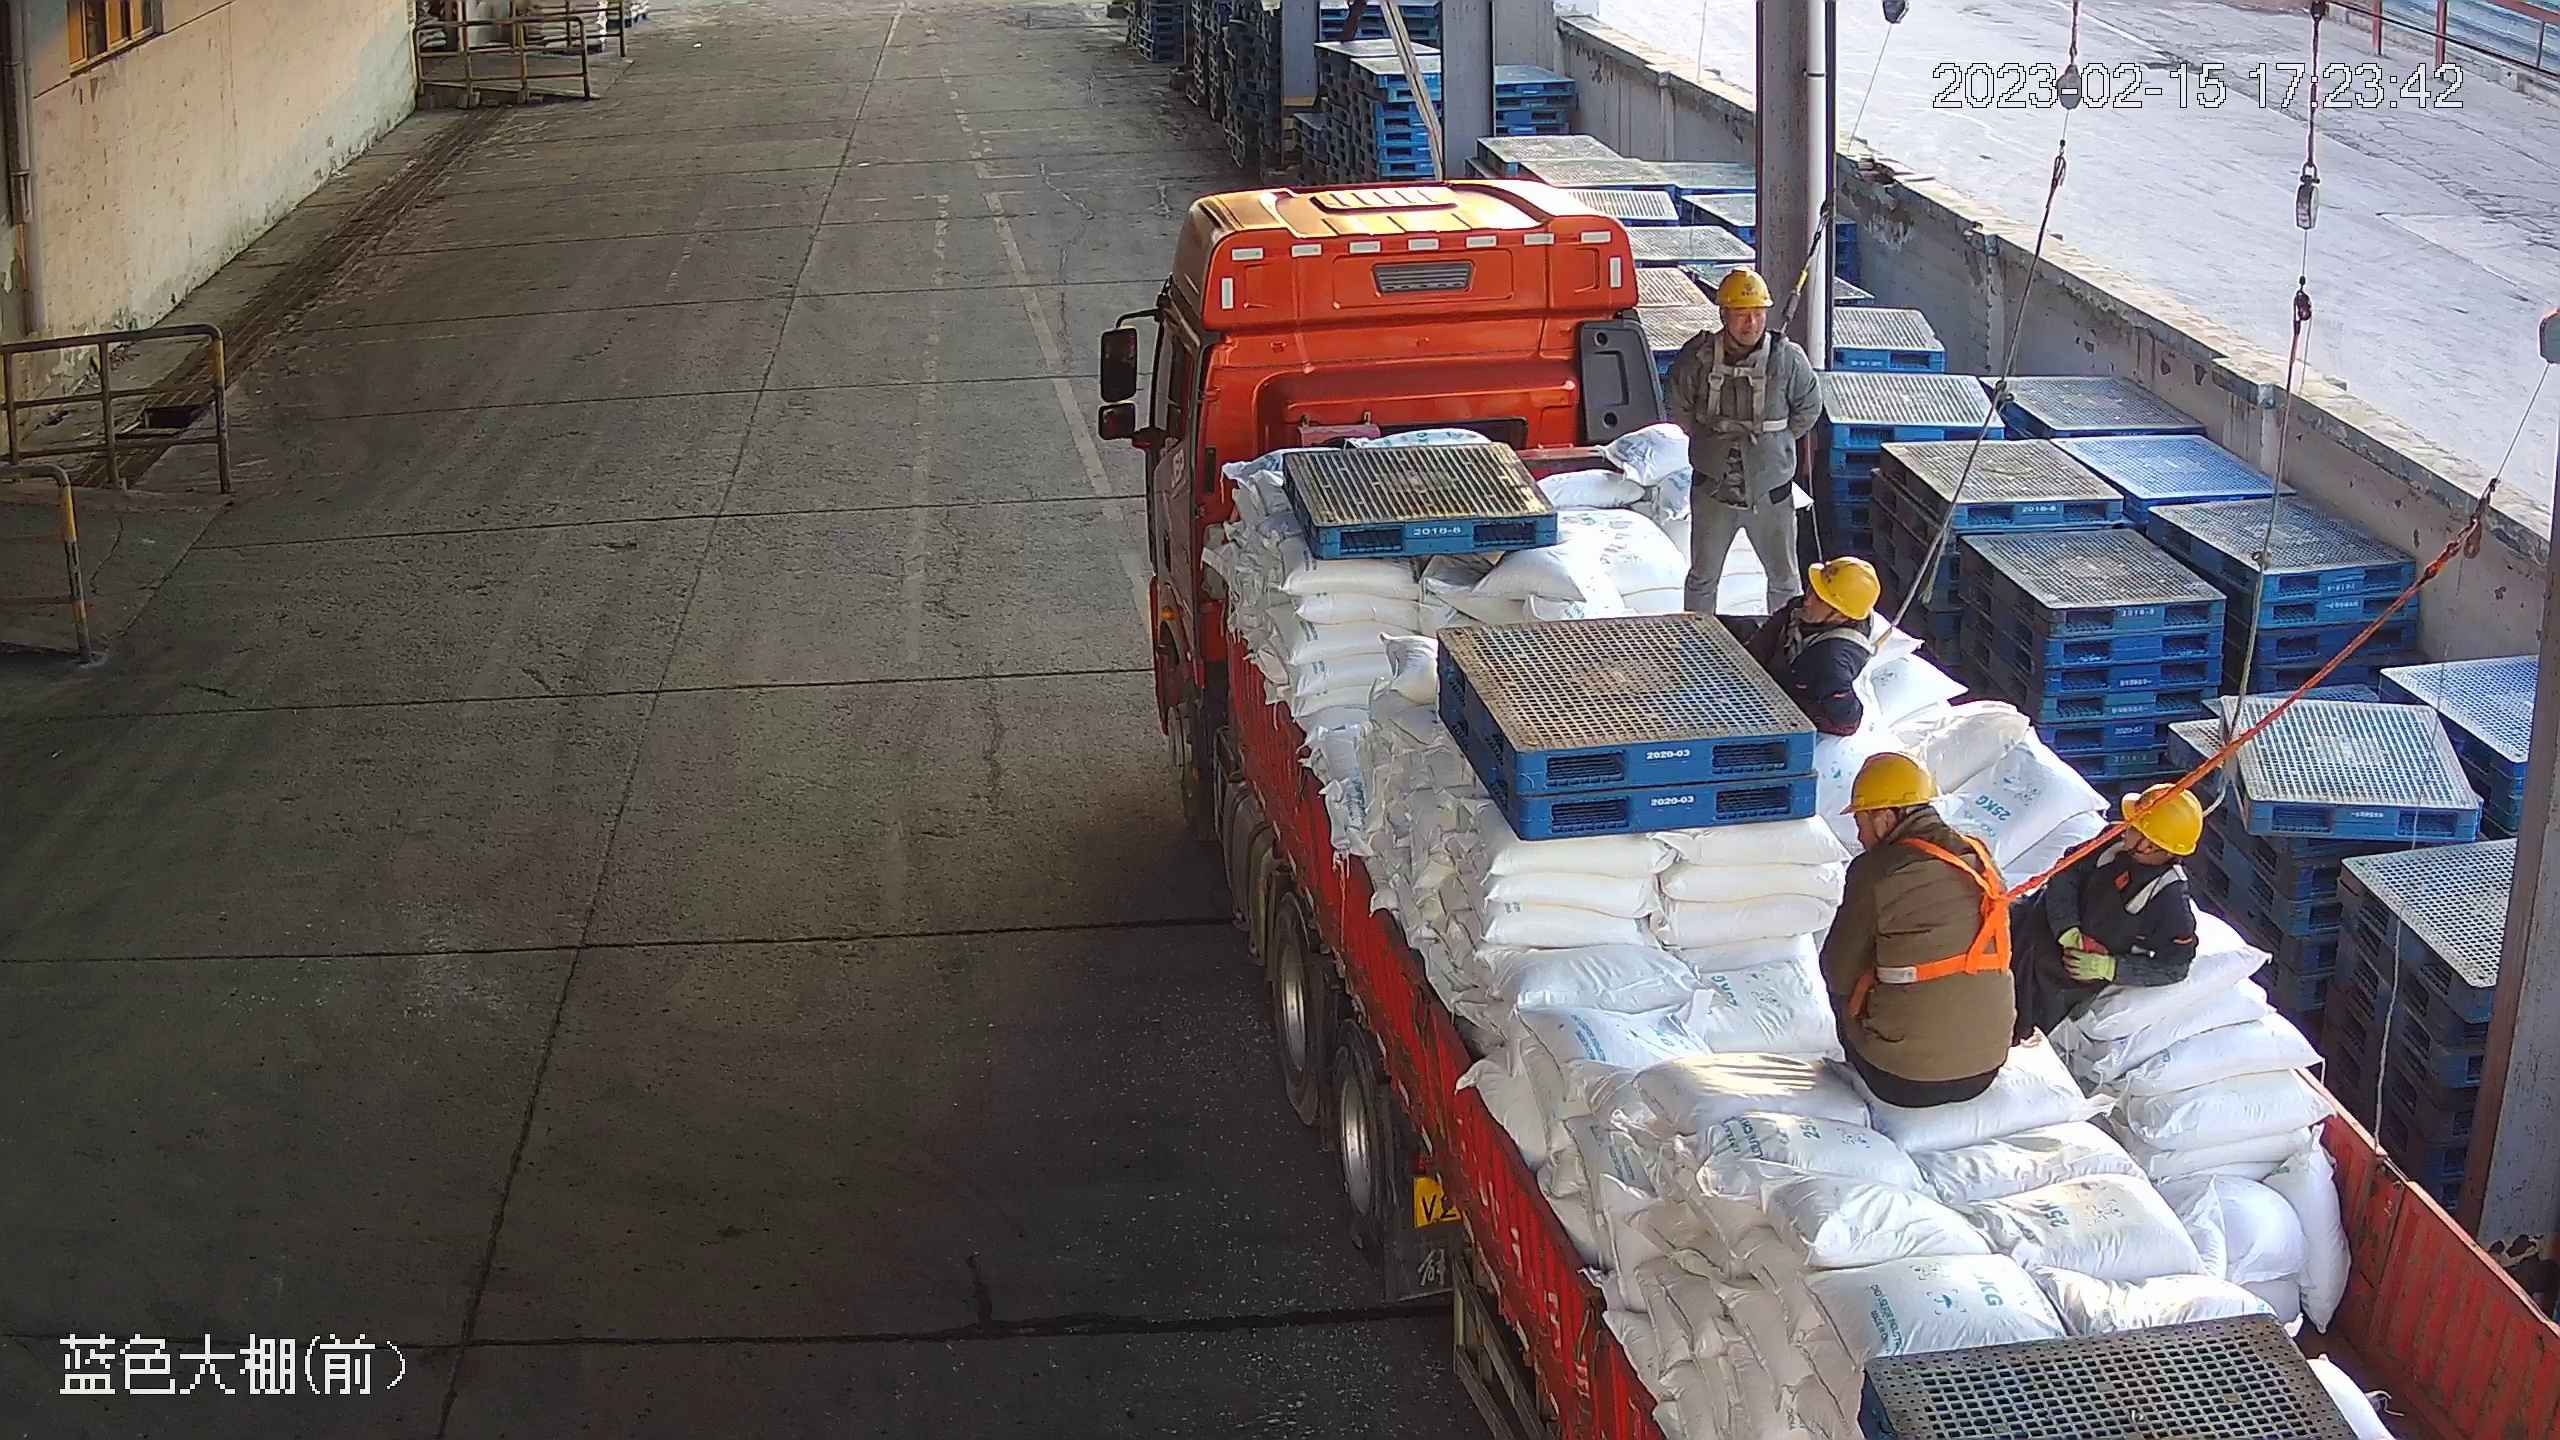belt: (1884, 841, 2030, 983), (1706, 348, 1784, 434), (1779, 616, 1865, 671), (2093, 865, 2169, 911)
head: (1842, 746, 1995, 890), (2079, 779, 2206, 899), (1683, 267, 1806, 378), (1795, 557, 1888, 671)
helmet: (2121, 779, 2207, 858), (1841, 748, 1935, 816), (1806, 551, 1883, 623), (1711, 265, 1774, 308)
people: (1821, 750, 2016, 1109), (1663, 262, 1820, 615), (2013, 785, 2218, 1036)
truck: (1090, 185, 2560, 1440)
